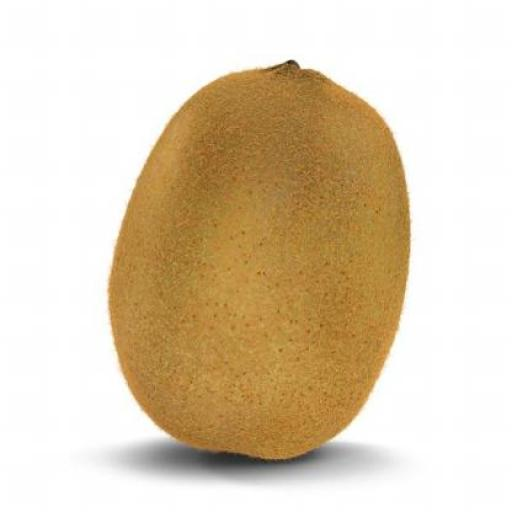kiwi: (102, 46, 411, 465)
